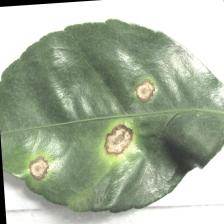canker: (13, 77, 162, 188)
